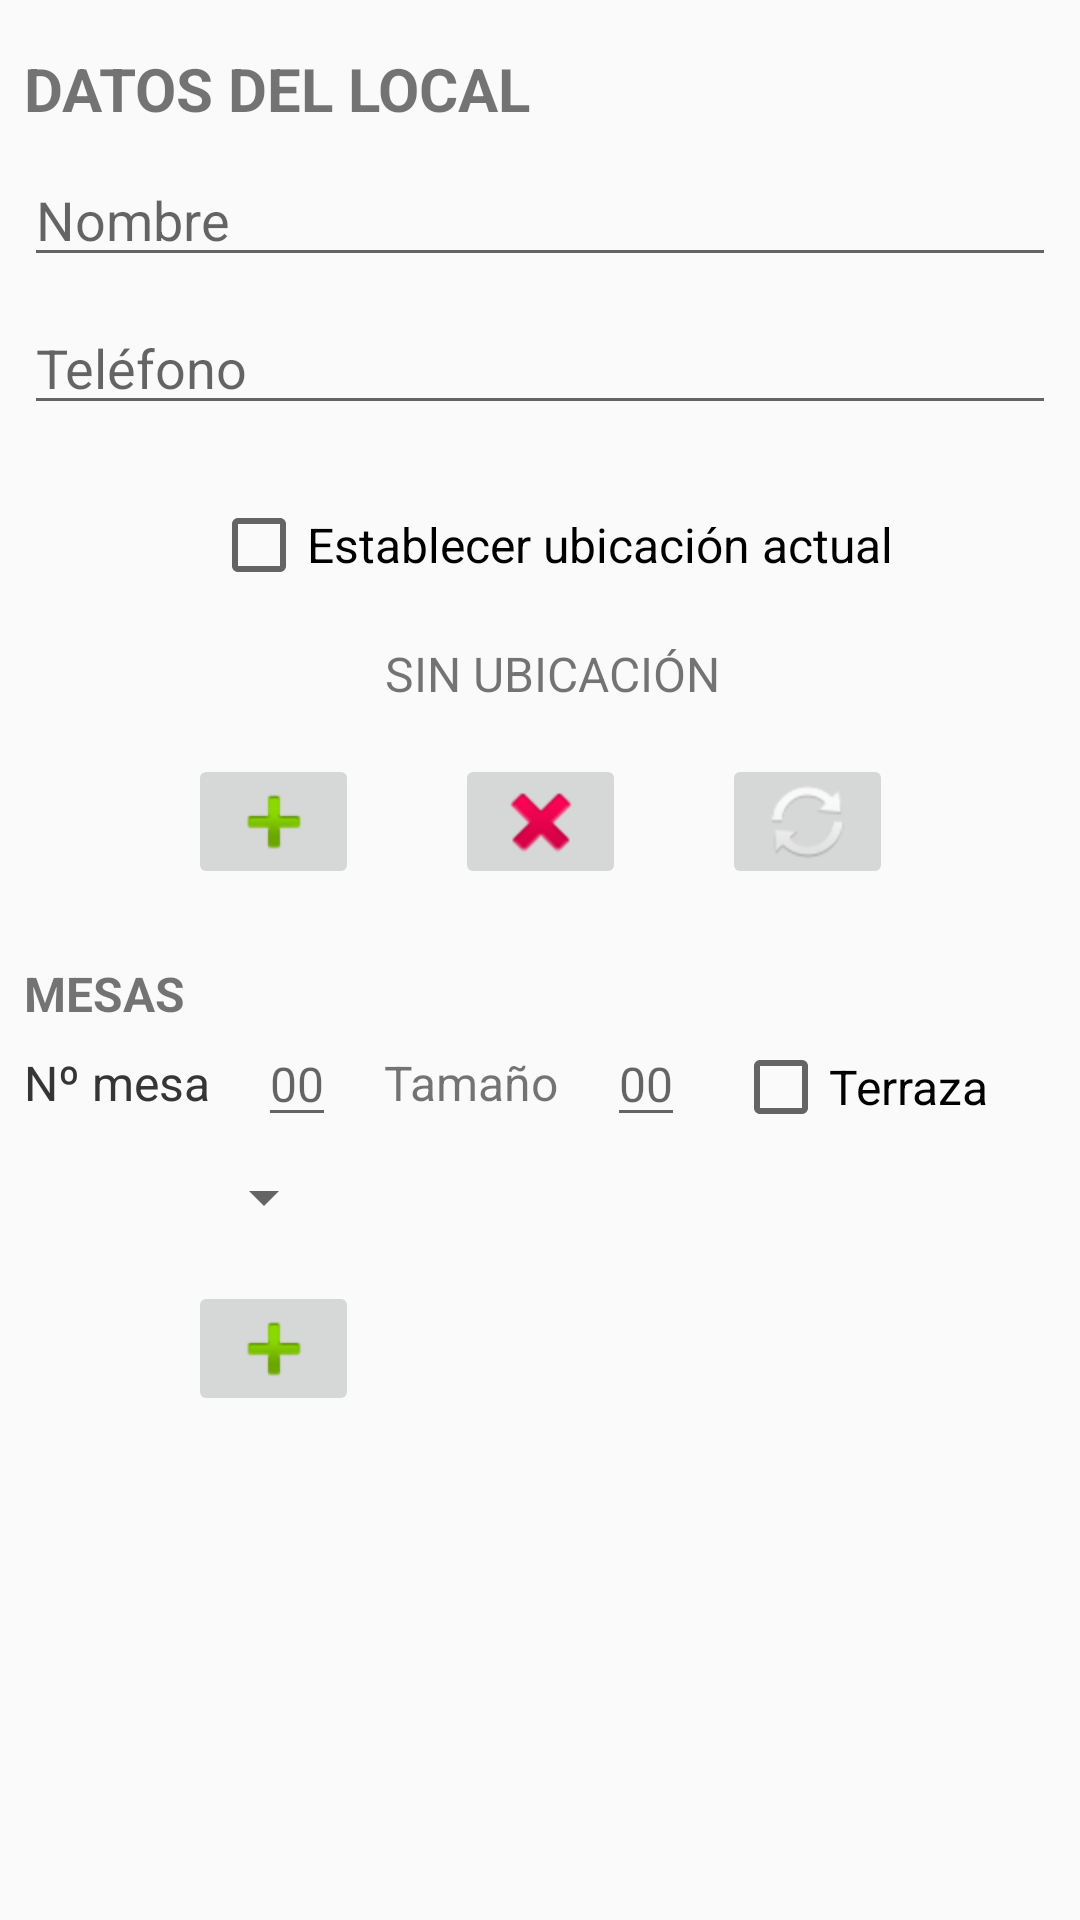

Named icons in this screenshot (1080px x 1920px) and their centers, [x,y]:
add: [273,821], [273,1348]
delete: [540,821]
popup sync: [807,821]
